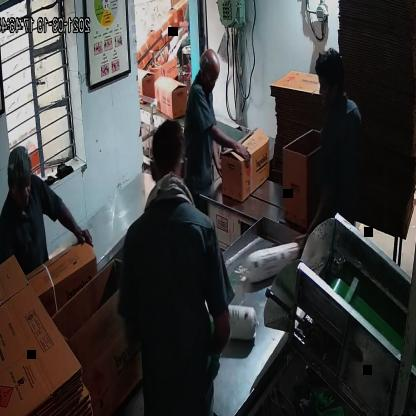no_glove: (50, 188, 96, 262), (297, 172, 337, 256), (206, 115, 258, 177)
